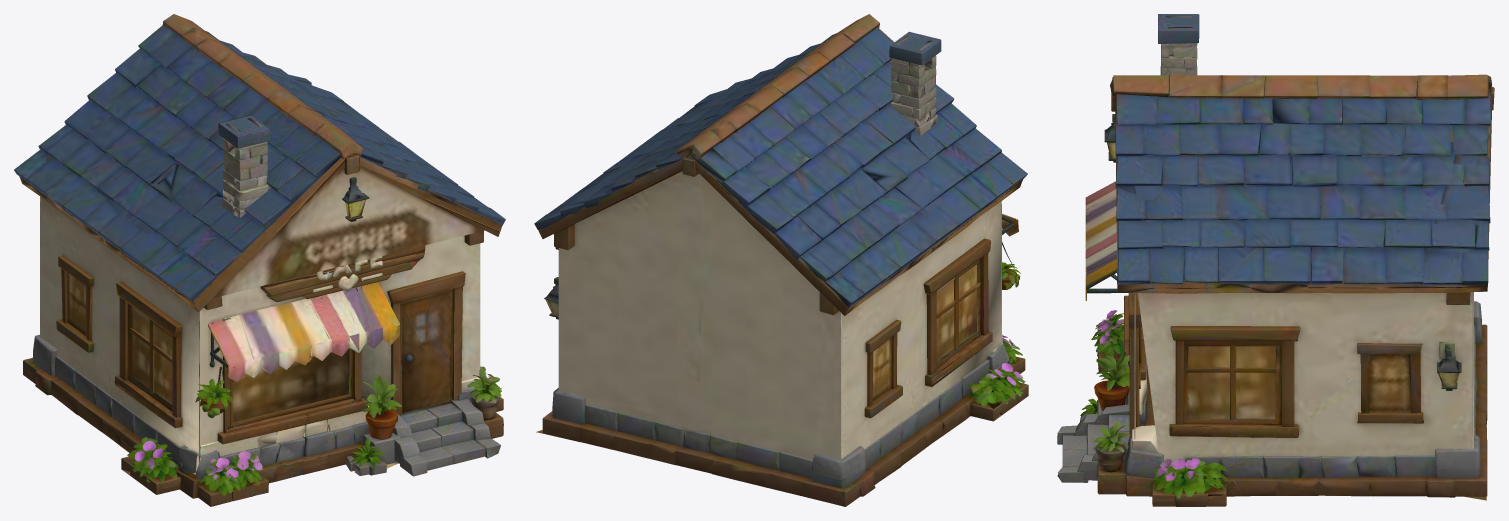
The model's file is corner_cafe.glb.
3 views of the same model, side by side, from view 1: azimuth 30°, elevation 25°; view 2: azimuth 150°, elevation 25°; view 3: azimuth 270°, elevation 25° (orthographic). The views are drawn at different scales.
Visible parts, largest first — view 1: geometry_0; view 2: geometry_0; view 3: geometry_0.
Part boxes in pixels (x1,y1,x2,y2): geometry_0: [14, 14, 505, 506]; geometry_0: [534, 14, 1028, 506]; geometry_0: [1057, 14, 1494, 506].
Bounding box in the file's own units: 0.9531 × 0.8638 × 0.9551.
1 material, 1 textured.
